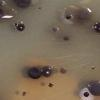black: (86, 80, 100, 97), (12, 0, 33, 9), (28, 67, 42, 80), (41, 66, 53, 78), (91, 22, 100, 34), (16, 23, 26, 32), (0, 6, 4, 22), (82, 91, 90, 98), (62, 36, 70, 42), (48, 82, 54, 88), (21, 91, 27, 97), (51, 27, 58, 32), (13, 21, 18, 27), (65, 16, 72, 20), (37, 7, 42, 11)
